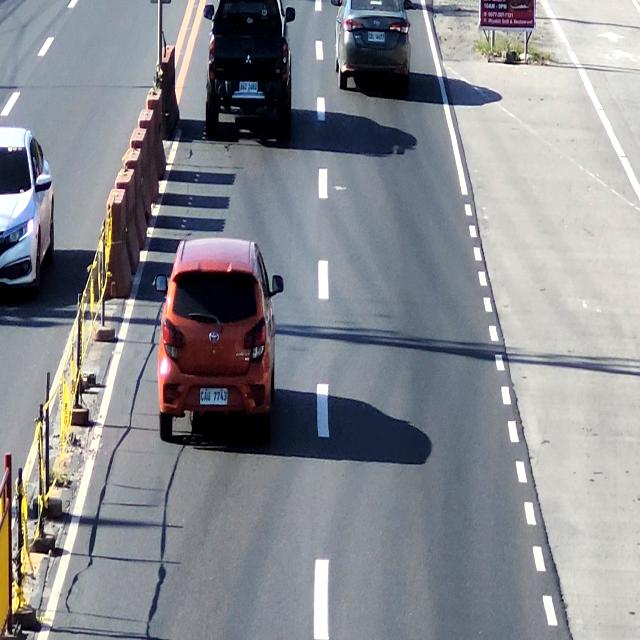Car: (159, 241, 278, 439), (202, 0, 289, 141), (331, 0, 410, 89)
License-Plate: (195, 382, 232, 408), (366, 26, 388, 47), (236, 76, 260, 95)
